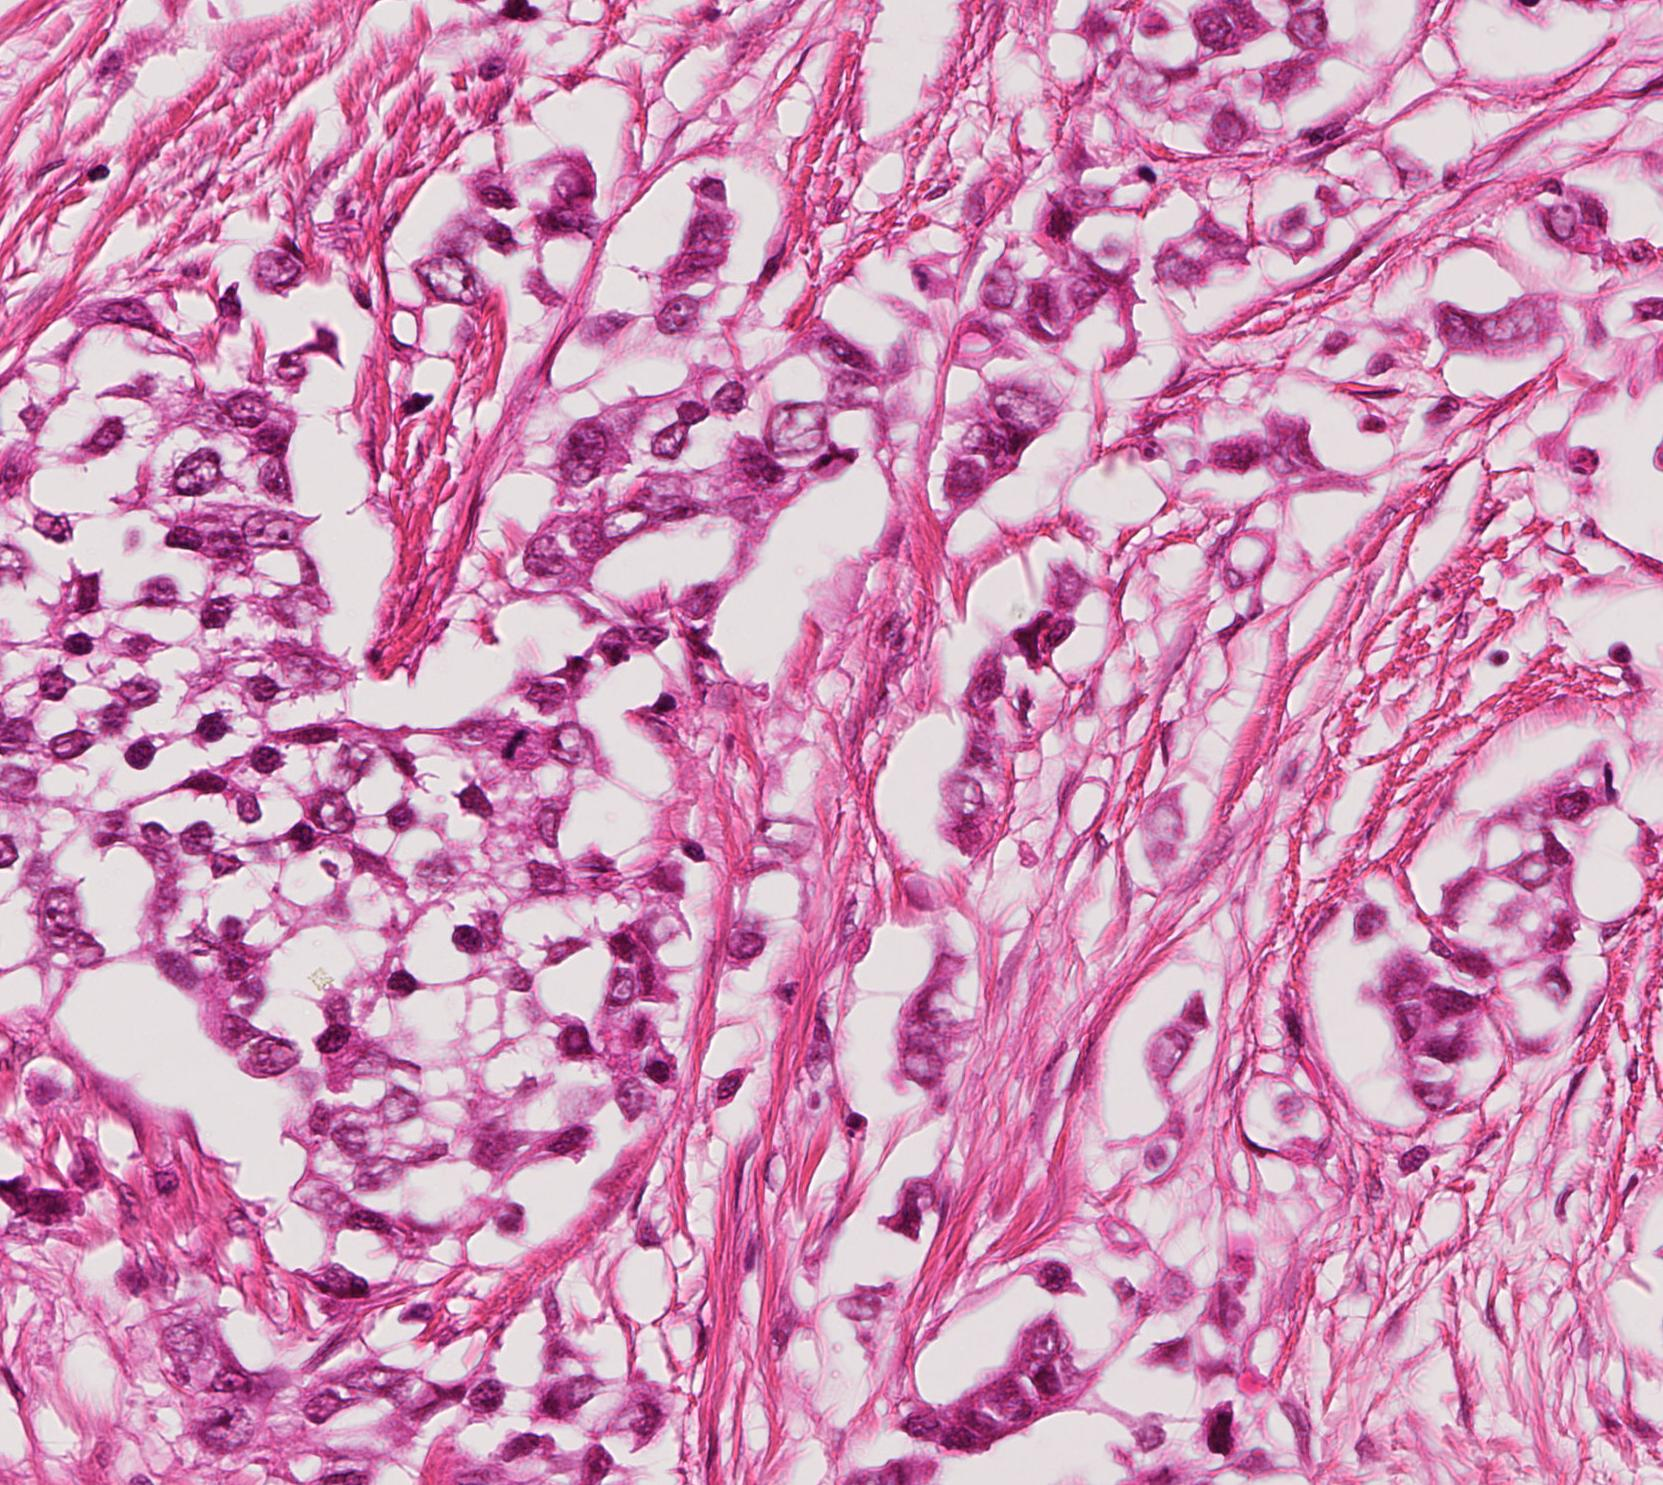mitosis: (486, 710, 546, 770)
